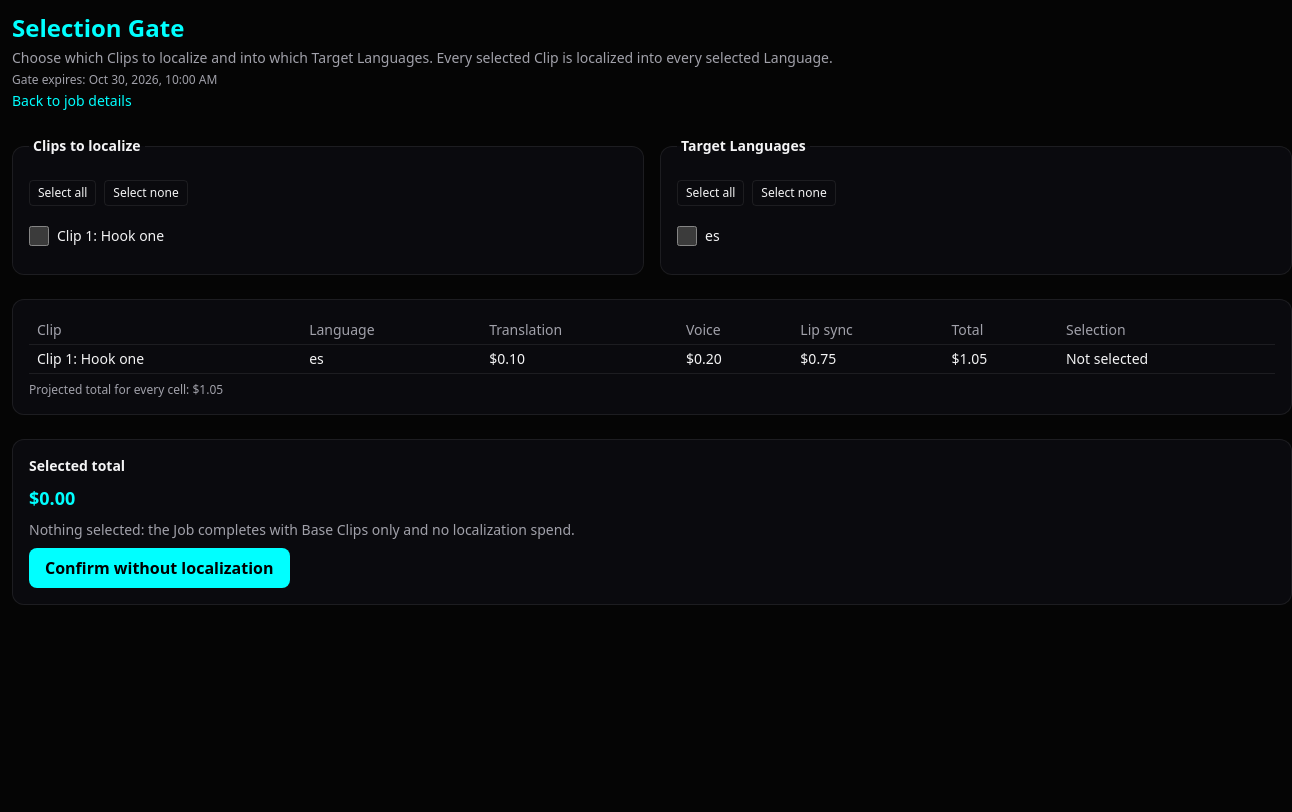
SelectionGatePage › shows a lip-sync column only when the Job was submitted with lip-sync
The width and height of the screenshot is (1292, 812).
Expected: the row "Clip 1: Hook one es $0.10 $0.20 $0.75 $1.05 Not selected" is shown, [29,344,1275,374]
# Selecting the cell charges its lip-sync-inclusive total.
Click the checkbox labelled "Clip 1: Hook one": (39, 236) [29,226,49,246]
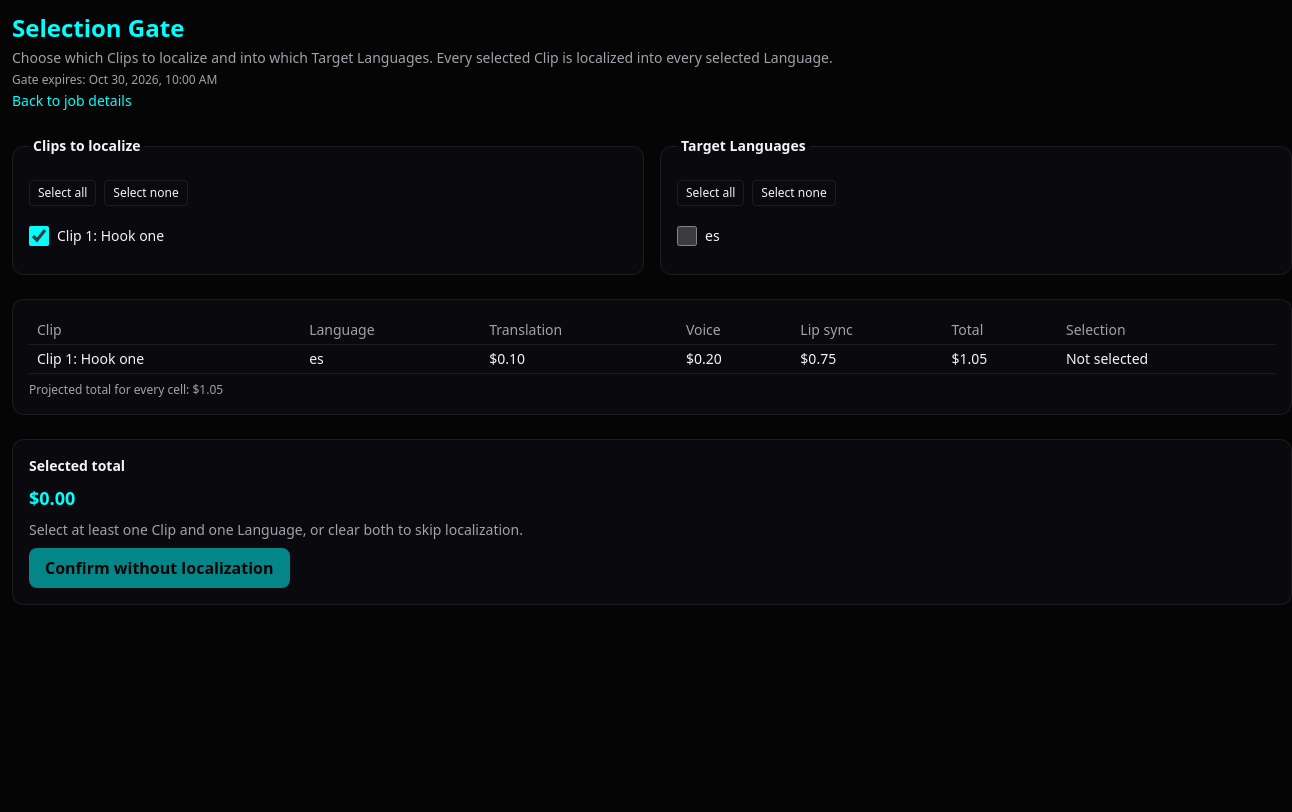
Click the checkbox labelled "es": (687, 236) [677,226,697,246]
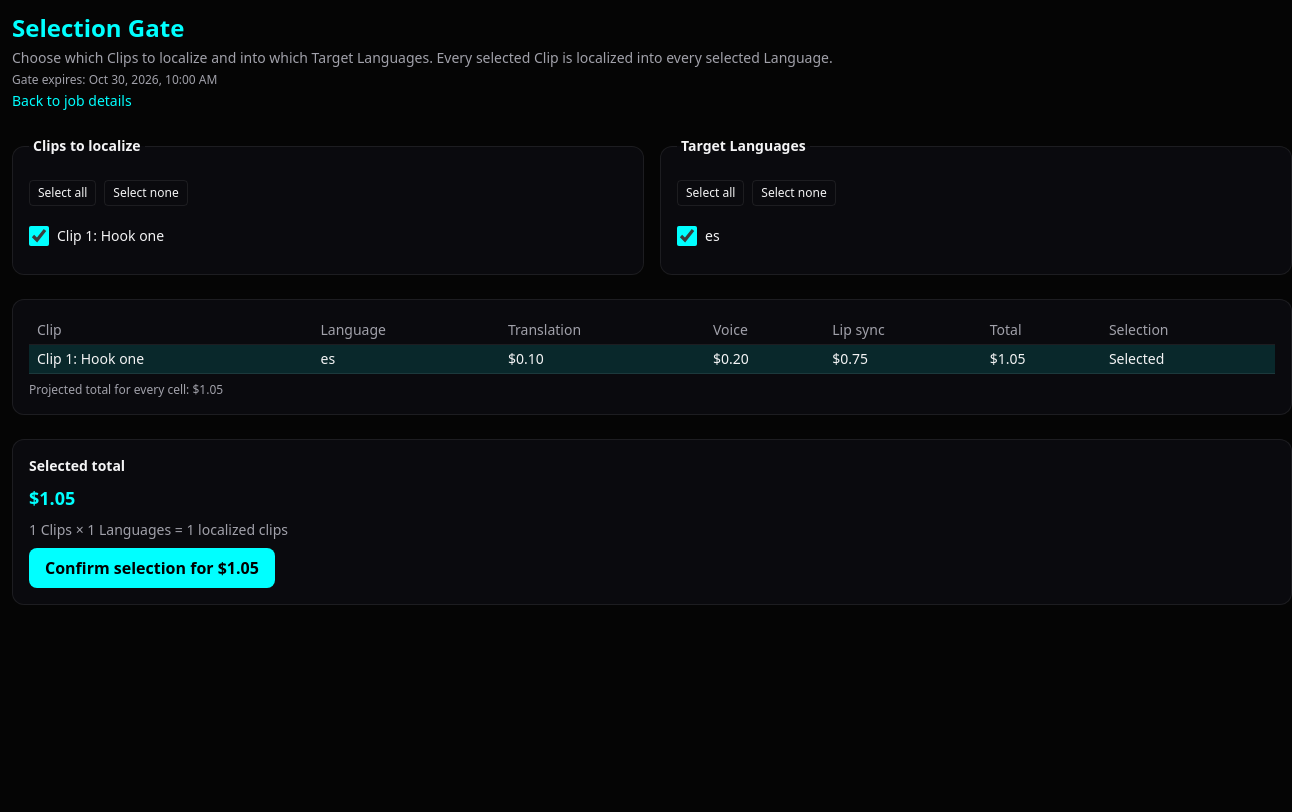
Now the text named "Selected total" reads "$1.05", box [29,486,75,510]
